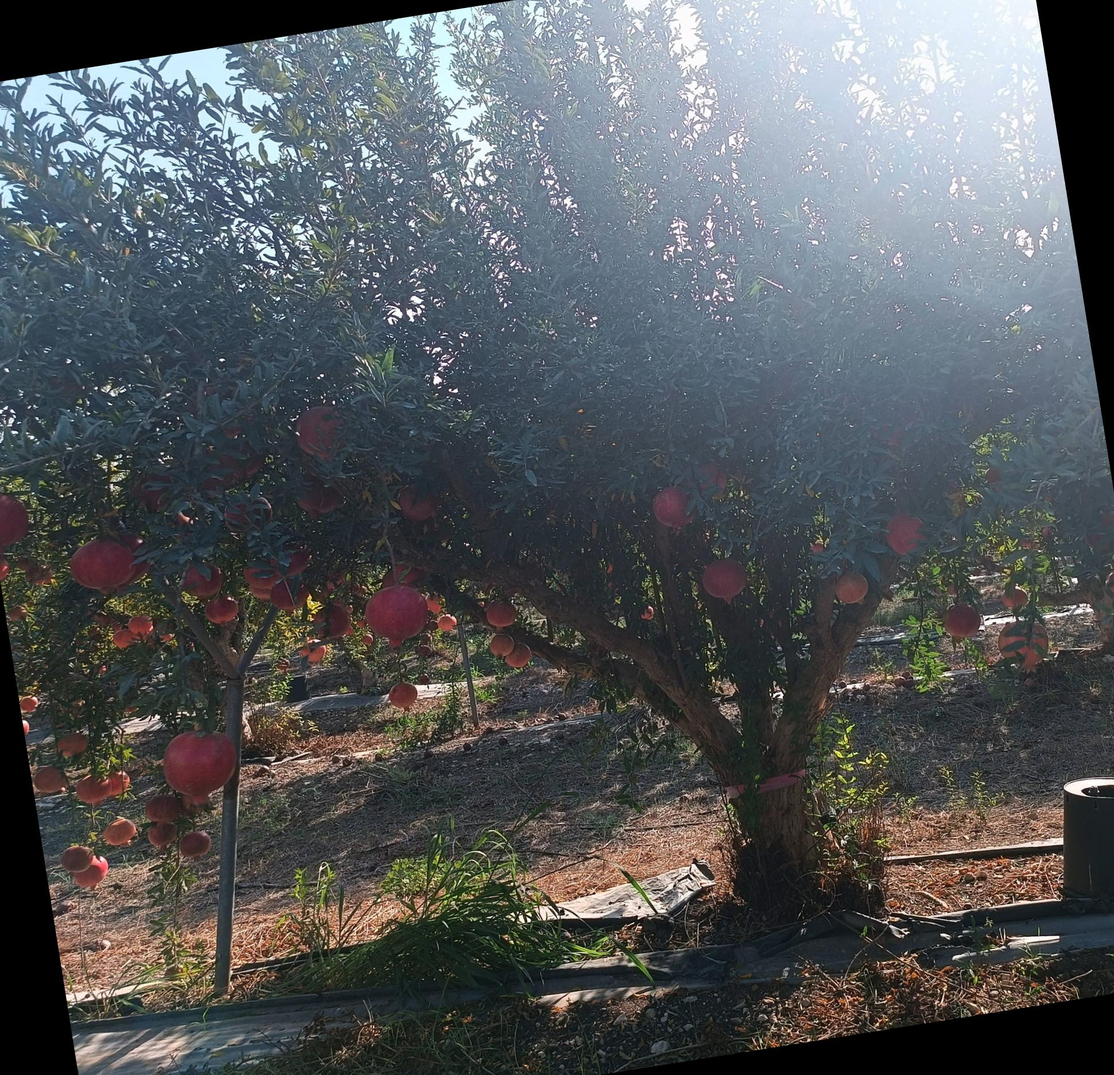defected: (89, 936, 112, 953), (55, 900, 75, 916), (162, 963, 186, 976), (904, 678, 916, 692), (893, 676, 906, 688), (1024, 677, 1036, 688), (258, 765, 271, 775), (900, 671, 911, 681), (112, 882, 124, 891), (498, 736, 508, 746), (462, 741, 472, 751), (422, 750, 433, 759), (964, 689, 974, 698), (342, 758, 352, 767), (331, 755, 340, 765), (557, 712, 567, 721), (838, 681, 847, 690), (374, 753, 383, 762), (966, 683, 974, 691), (850, 678, 858, 684)
